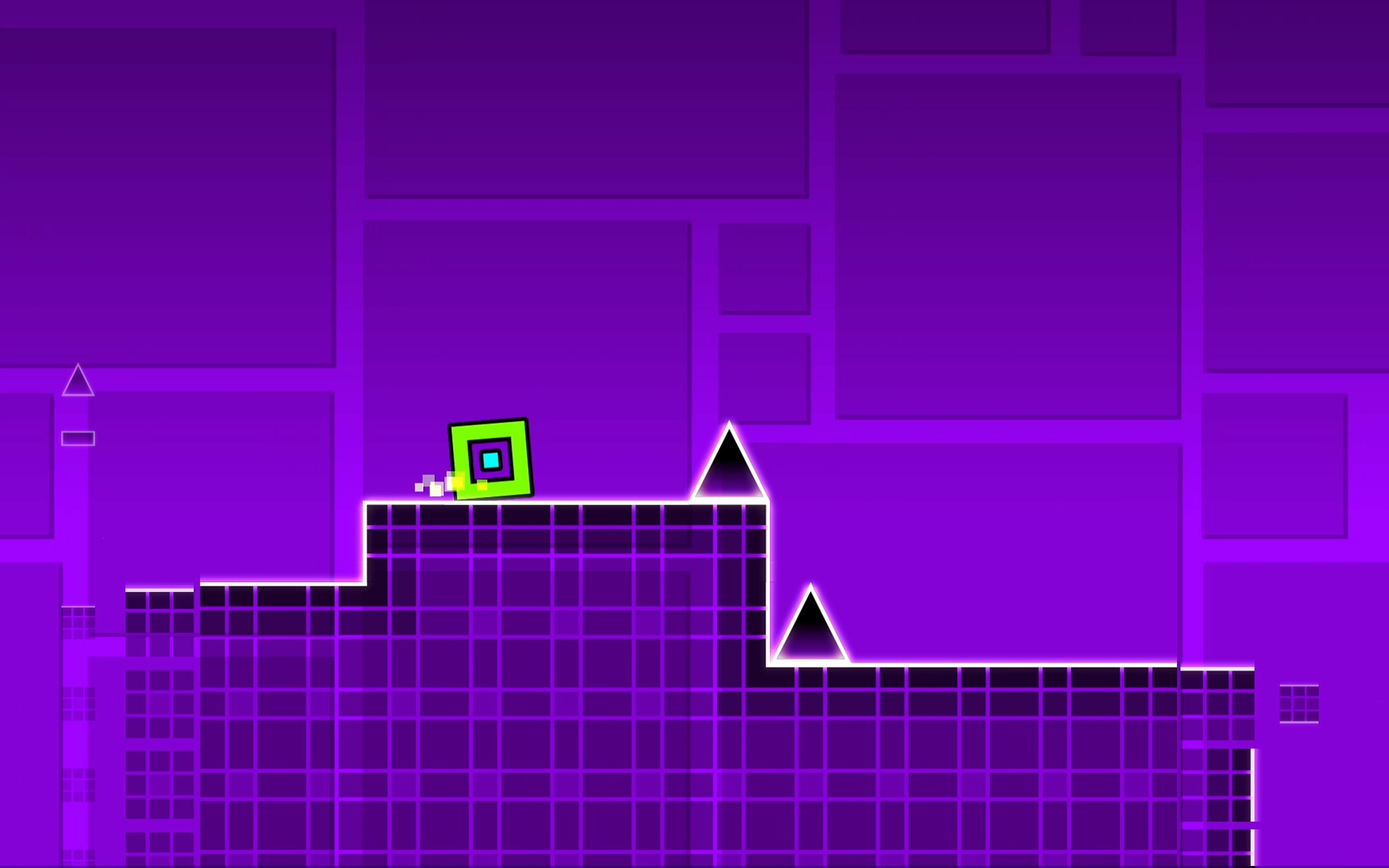Block2: (363, 502, 769, 868), (756, 669, 1259, 857), (127, 588, 360, 868)
Player: (448, 421, 532, 501)
Spike: (775, 584, 852, 663), (695, 424, 771, 502)
